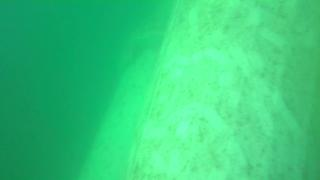pipe: (123, 1, 320, 179), (76, 1, 174, 179)
